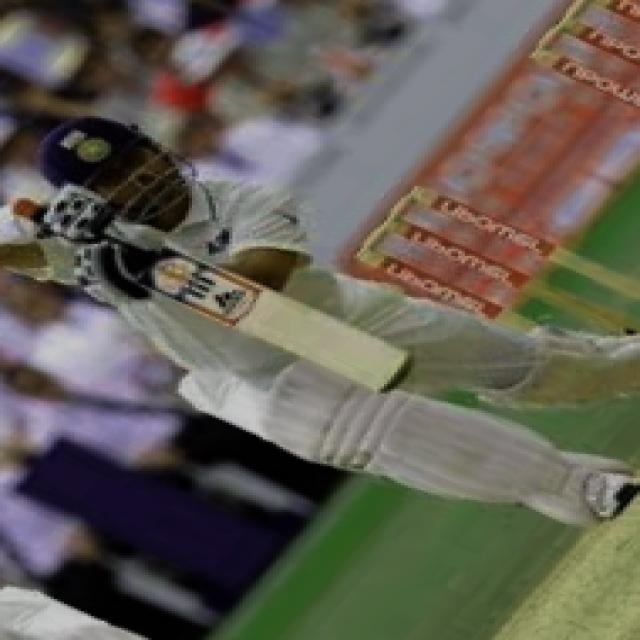bat: (104, 216, 418, 402)
toe: (373, 355, 425, 394)
